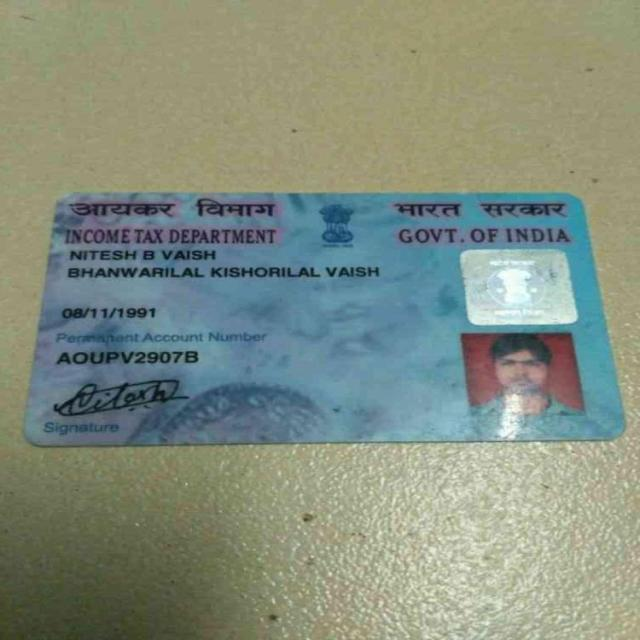pan_card: (26, 195, 623, 445)
